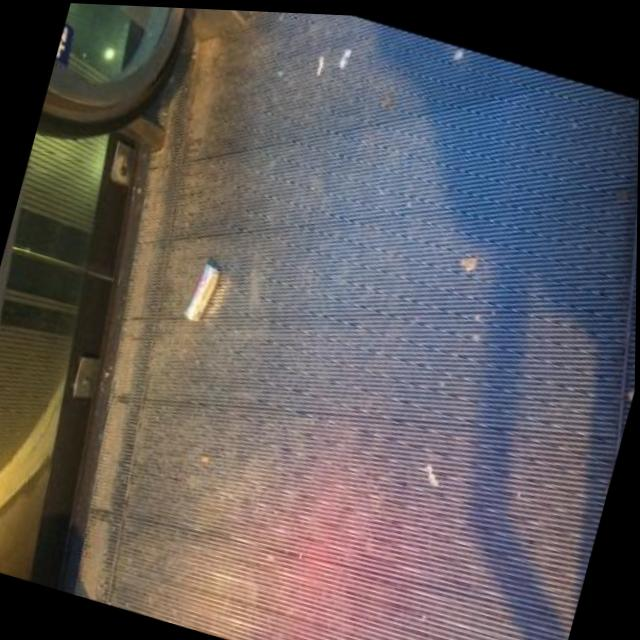metal: (181, 258, 223, 325)
